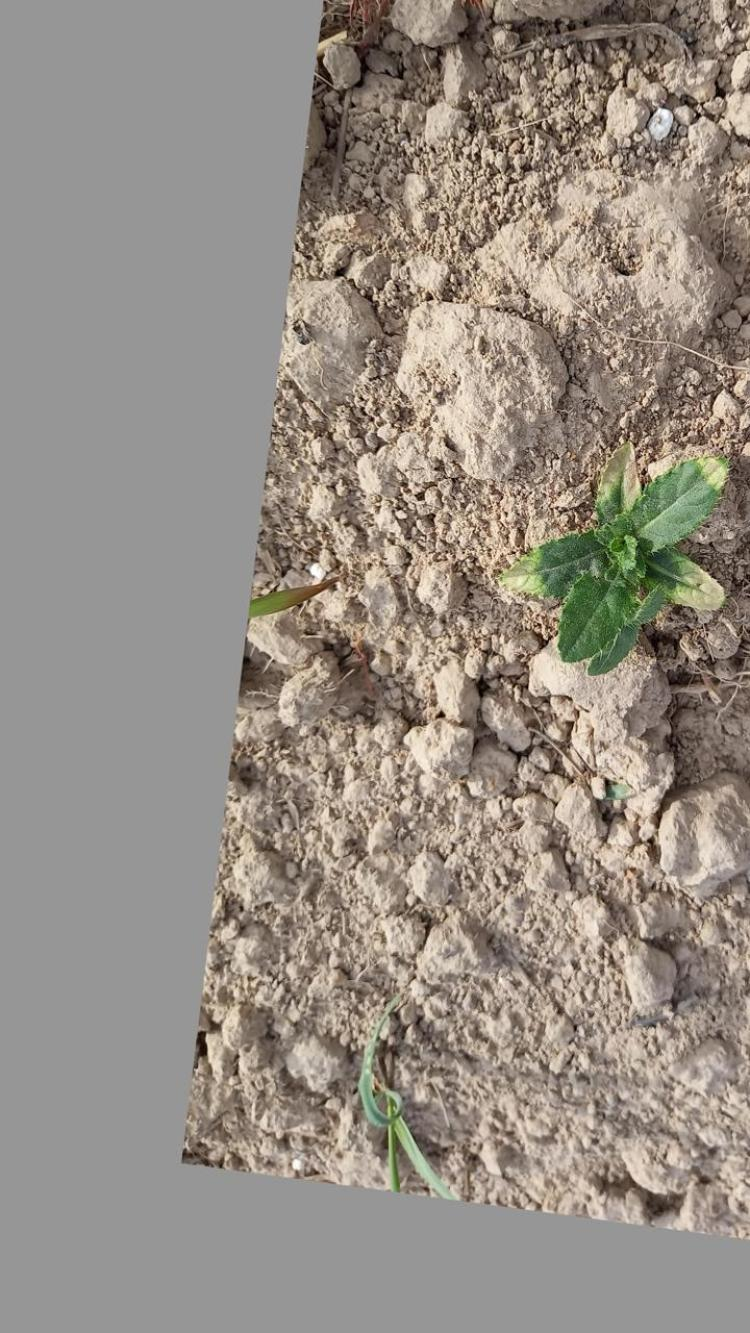bodyak: (519, 425, 729, 660)
